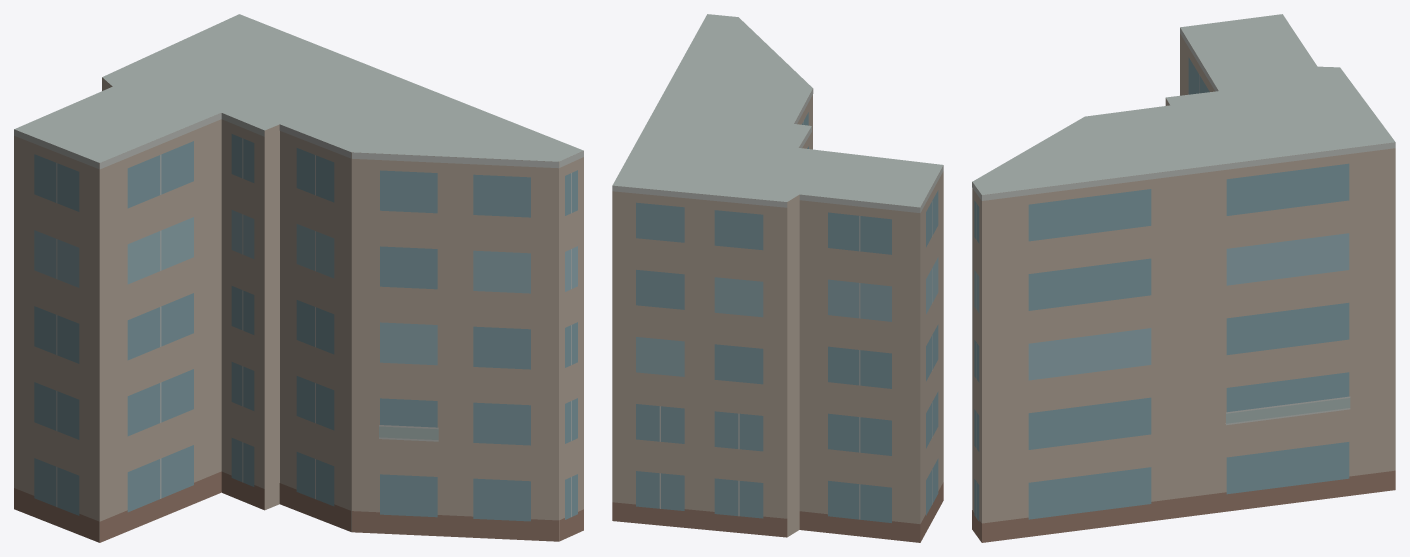
Rendered from survey-upis-33011144.glb.
The picture shows the model from 3 angles, left to right: view 1: azimuth 30°, elevation 25°; view 2: azimuth 150°, elevation 25°; view 3: azimuth 270°, elevation 25°; orthographic projection. The views are drawn at different scales.
Parts seen in each view (by area): view 1: survey-upis-33011144.tmp; view 2: survey-upis-33011144.tmp; view 3: survey-upis-33011144.tmp.
Boxes of the visible parts, x1=… form: survey-upis-33011144.tmp: x1=14, y1=14, x2=583, y2=542; survey-upis-33011144.tmp: x1=612, y1=14, x2=943, y2=542; survey-upis-33011144.tmp: x1=972, y1=14, x2=1395, y2=542.
Bounding box in the file's own units: 16.1 × 14.4 × 15.9.
